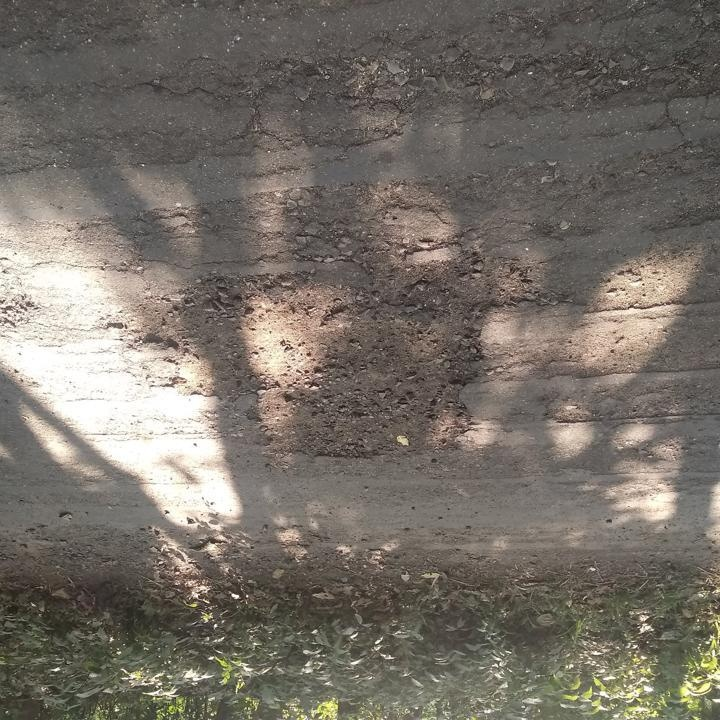pothole: (122, 238, 505, 463)
